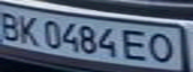0: (39, 17, 63, 51)
4: (96, 25, 121, 58), (60, 20, 81, 53)
8: (78, 22, 100, 56)
B: (0, 9, 24, 42)
E: (121, 28, 151, 63)
K: (15, 12, 42, 46)
O: (145, 30, 178, 65)
